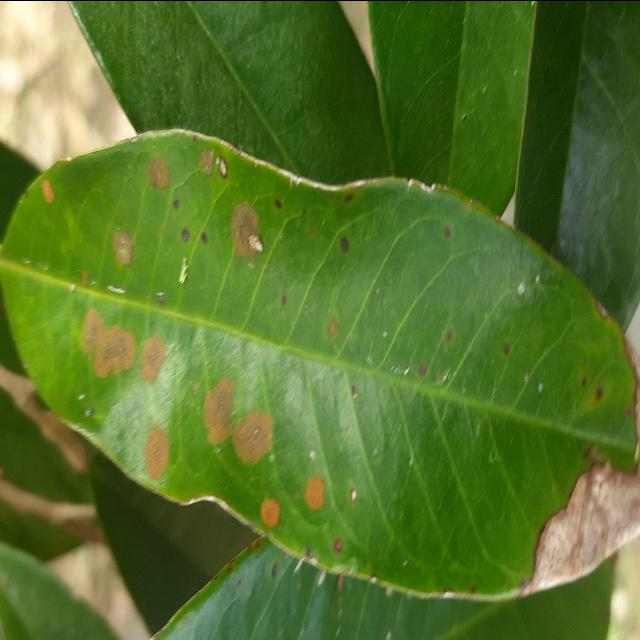Algal Leaf Spot: (0, 125, 640, 610)
